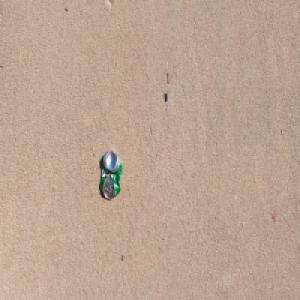SodaCan: (99, 148, 123, 200)
